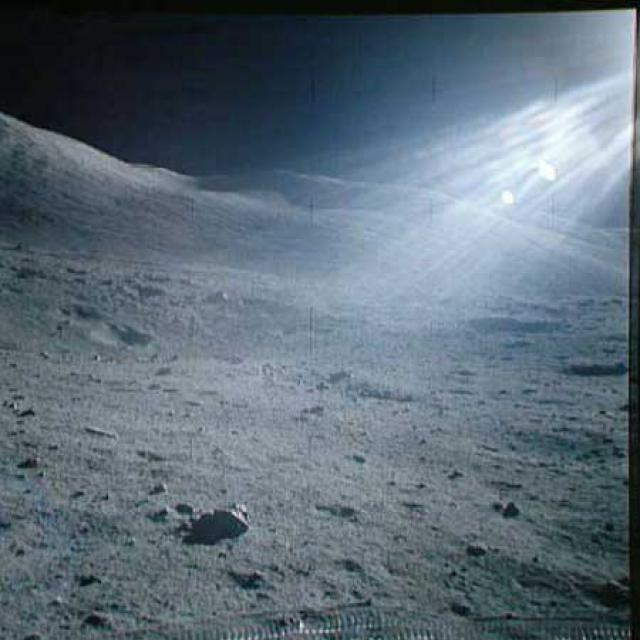rock: (180, 497, 252, 541), (493, 495, 529, 520)
